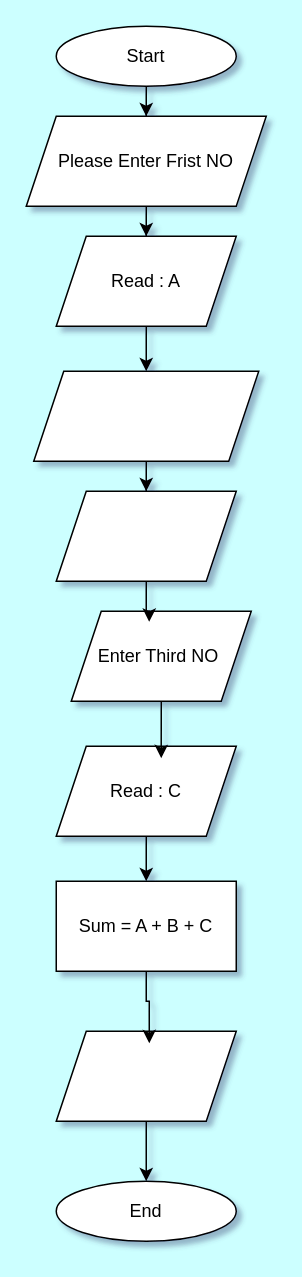
This 302x1277 diagram has some shape labels left out. The shapes that lost their labels are listed below. From the top down, each one's centre as x and y in pixels, then its label:
At point (145, 415): "Enter Second NO".
At point (145, 535): "Read : B".
At point (145, 1075): "Sum".
